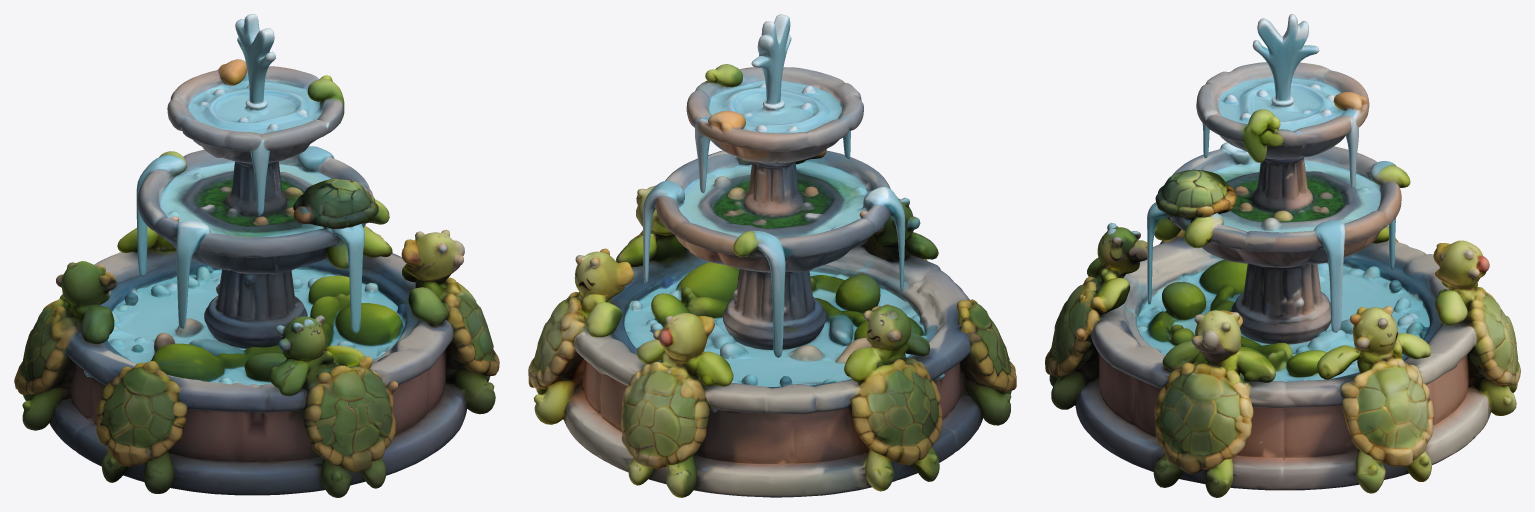
File: plaza-fountain-turtle.glb
3 renders of one model, left to right at view 1: azimuth 30°, elevation 25°; view 2: azimuth 150°, elevation 25°; view 3: azimuth 270°, elevation 25°, orthographic.
Parts seen in each view (by area): view 1: tripo_node_3c25bd3e-2fe6-4684-aa45-e7b88d6108b7; view 2: tripo_node_3c25bd3e-2fe6-4684-aa45-e7b88d6108b7; view 3: tripo_node_3c25bd3e-2fe6-4684-aa45-e7b88d6108b7.
Part boxes in pixels (x1,y1,x2,y2): tripo_node_3c25bd3e-2fe6-4684-aa45-e7b88d6108b7: (14,14,499,497); tripo_node_3c25bd3e-2fe6-4684-aa45-e7b88d6108b7: (528,14,1016,497); tripo_node_3c25bd3e-2fe6-4684-aa45-e7b88d6108b7: (1045,14,1520,497).
Size of the model in its own units: 3.18 by 3 by 3.31.
Materials: 1 (1 with a texture image).
